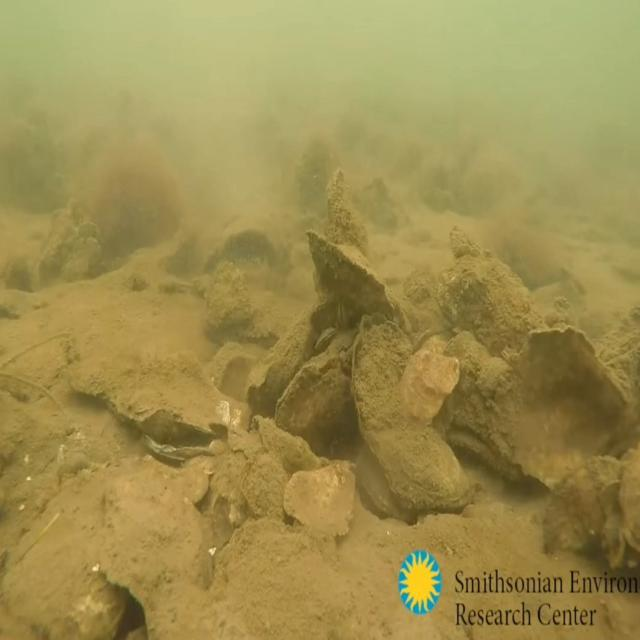Oyster-Closed: (352, 313, 476, 511), (72, 348, 230, 437), (273, 327, 361, 445), (245, 303, 334, 419), (540, 452, 628, 554), (306, 227, 392, 311), (312, 325, 339, 350), (336, 300, 349, 330)
Oyster-Indeterminate: (96, 467, 214, 640), (510, 326, 629, 489), (210, 518, 364, 640), (434, 221, 562, 356), (282, 463, 356, 538), (251, 414, 326, 472), (326, 166, 369, 260), (243, 452, 293, 522)
Oyster-Open: (442, 408, 525, 482)
